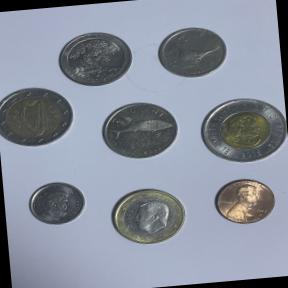coin: (191, 85, 288, 172), (92, 91, 186, 168), (104, 181, 196, 252), (0, 80, 79, 155), (53, 26, 138, 90), (206, 172, 281, 232), (24, 177, 91, 232)
